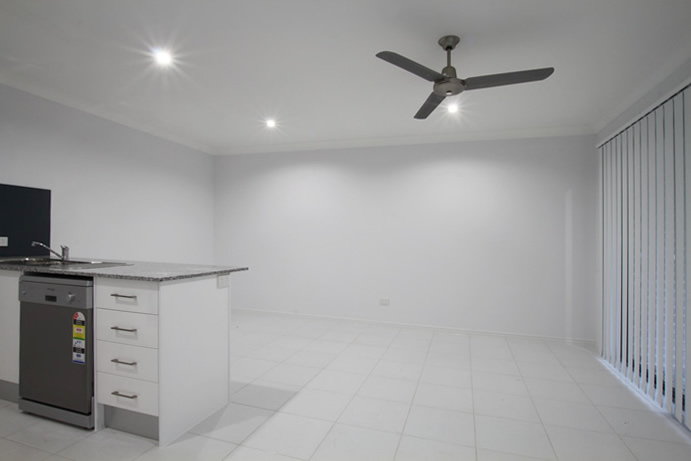ceiling fan: (363, 26, 568, 128)
